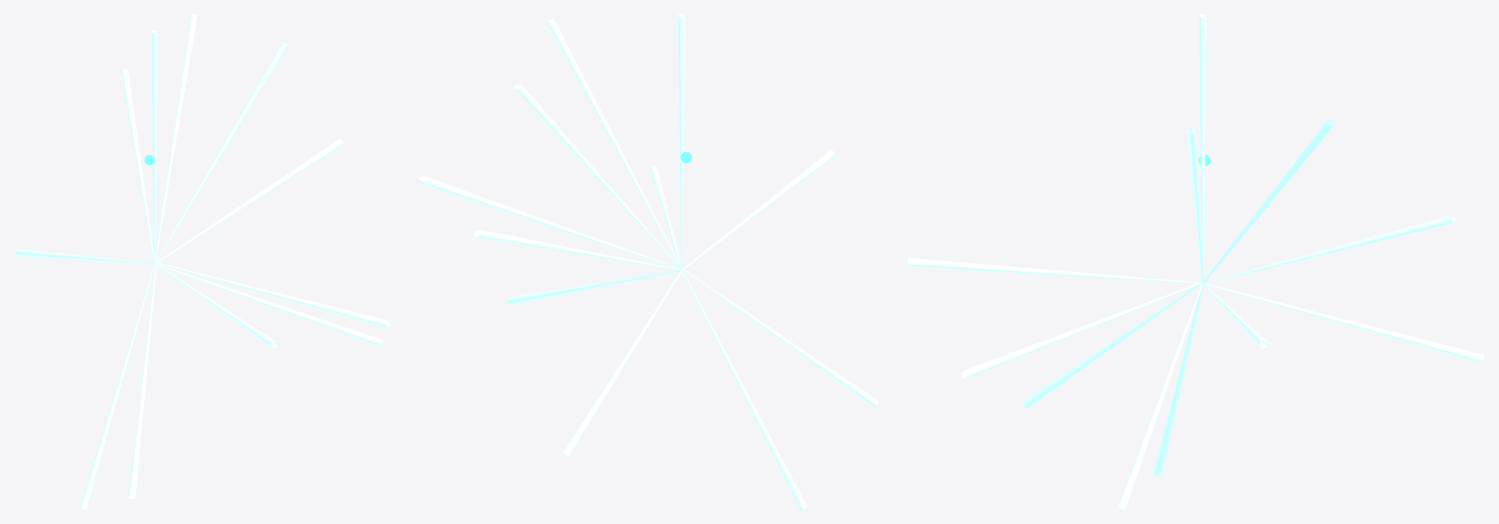
Rendered from staff-charge.glb.
3 views of the same model, side by side, from view 1: azimuth 30°, elevation 25°; view 2: azimuth 150°, elevation 25°; view 3: azimuth 270°, elevation 25° (orthographic). The views are drawn at different scales.
Visible parts, largest first — view 1: staff-charge; view 2: staff-charge; view 3: staff-charge.
Part boxes in pixels (x1,y1,x2,y2): staff-charge: (14,14,389,509); staff-charge: (418,14,878,509); staff-charge: (907,14,1484,509).
Bounding box in the file's own units: 1.6 × 2.13 × 2.19.
